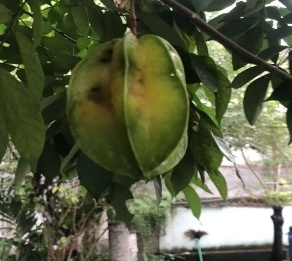Khe: (65, 33, 195, 183)
